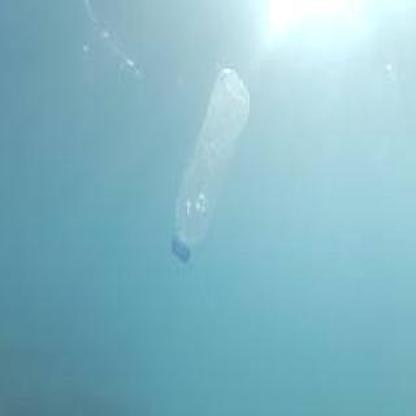plastic bottle: (173, 68, 249, 261)
